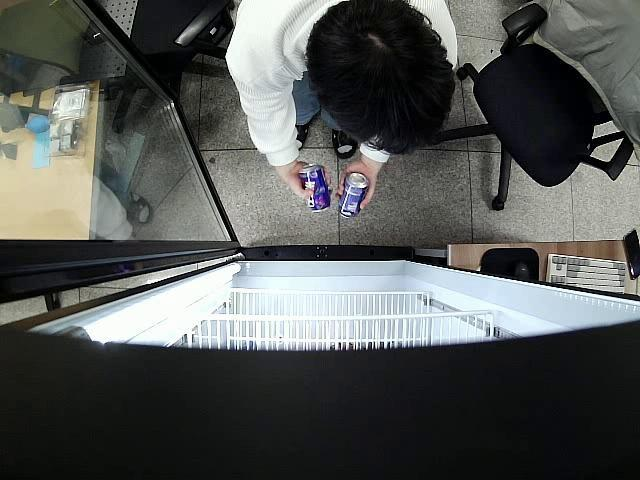14_welchsGrape: (336, 172, 370, 221), (300, 165, 332, 214)
